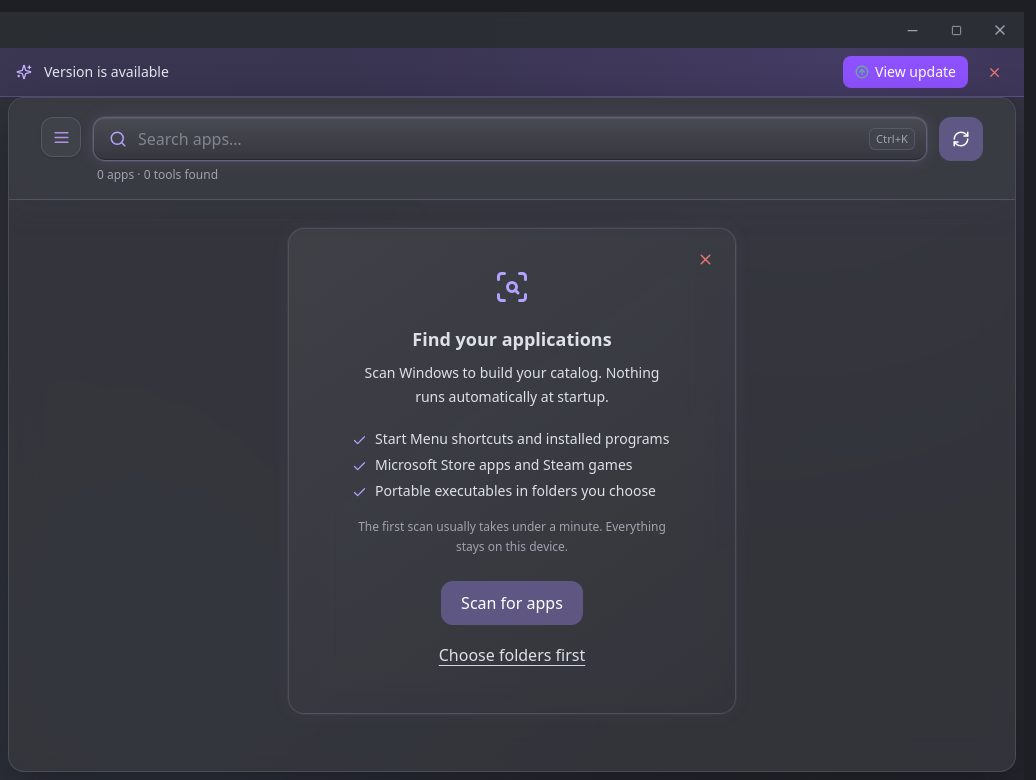
it: App › shows and dismisses the first-run scan prompt without scanning
Check: the heading "Find your applications" is shown, box 412,327 -> 612,351
Click the button named "Dismiss scan prompt" at (705, 259), box 687,241 -> 723,277
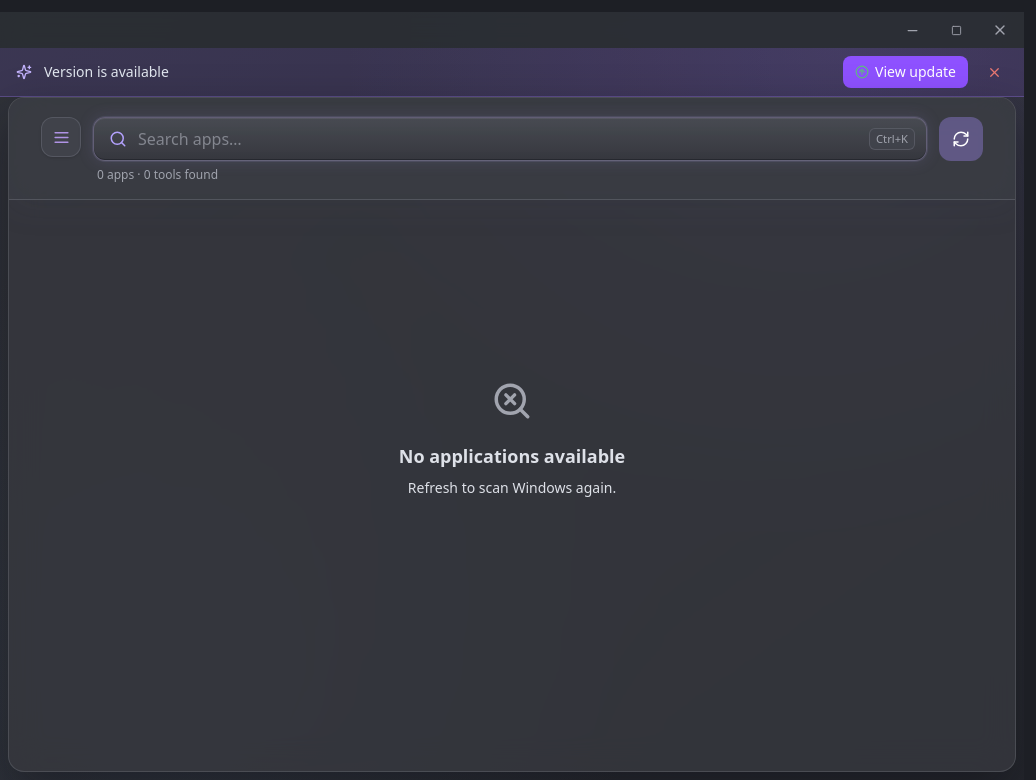
Check: the button named "Scan for apps" is shown, box 939,117 -> 983,161
Check: the heading "Find your applications" is gone
